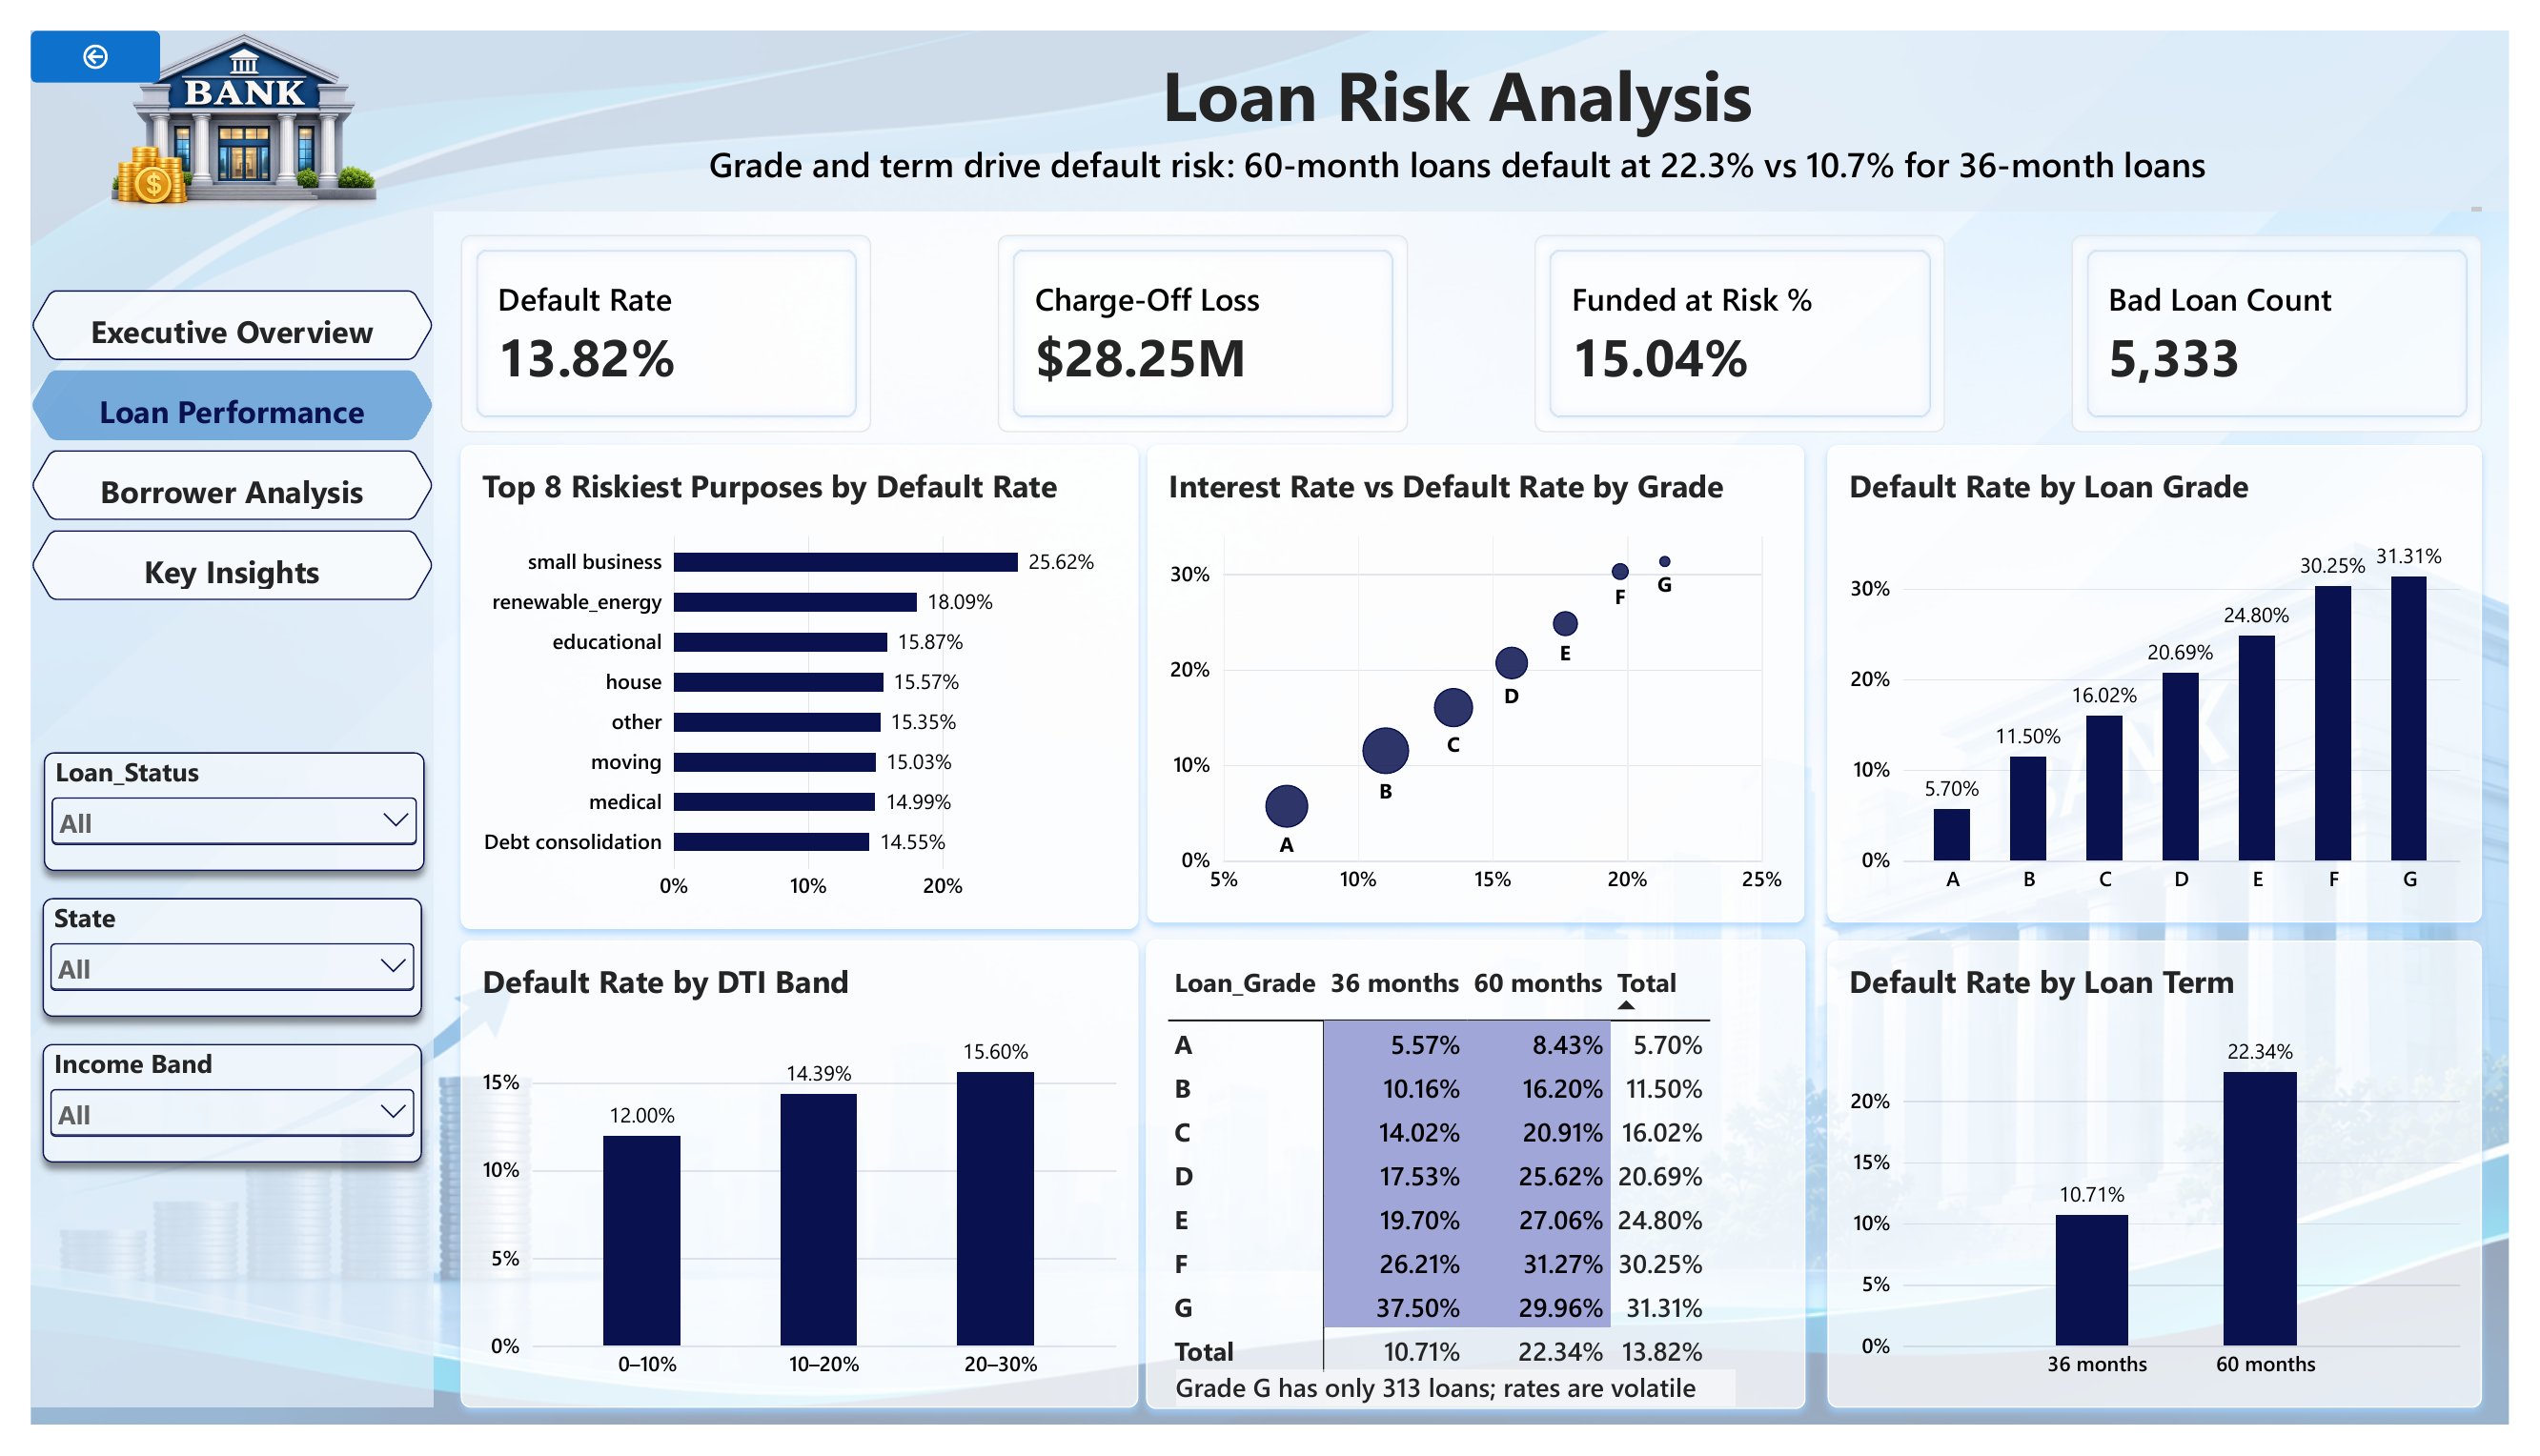

What the dashboard file says about the page in this screenshot:
{"tool":"powerbi","page":{"name":"Loan Performance","canvas":[1920,1080],"ordinal":1},"visuals":[{"type":"shape","box":[0,0,1920.4,139.5],"z":0},{"type":"shape","box":[0,139.5,312.2,927.9],"z":1000},{"type":"image","box":[26.2,0,277.3,139.5],"z":5000},{"type":"textbox","title":"Loan Risk Analysis","box":[312.2,12.2,1587.2,127.3],"z":6000},{"type":"pageNavigator","box":[0,200.6,312.2,240.7],"z":7000},{"type":"cardVisual","fields":{"Data":["Bank_Loan.Default Rate"]},"box":[333.1,157.6,317.4,153.5],"z":8000},{"type":"cardVisual","fields":{"Data":["Bank_Loan.Charge-Off Loss"]},"box":[749.2,157.6,317.4,153.5],"z":9000},{"type":"cardVisual","fields":{"Data":["Bank_Loan.Funded at Risk %"]},"box":[1165.3,157.6,317.4,153.5],"z":10000},{"type":"cardVisual","fields":{"Data":["Bank_Loan.Bad Loan Count"]},"box":[1581.3,157.6,317.4,153.5],"z":11000},{"type":"clusteredColumnChart","title":"Default Rate by Loan Grade","fields":{"Category":["Bank_Loan.Loan_Grade"],"Y":["Bank_Loan.Default Rate"]},"box":[1391.9,320.9,507.6,369.8],"z":12000},{"type":"clusteredColumnChart","title":"Default Rate by Loan Term","fields":{"Category":["Bank_Loan.Loan_Term"],"Y":["Bank_Loan.Default Rate"]},"box":[1391.9,704.7,507.6,362.8],"z":13000},{"type":"clusteredBarChart","title":"Top 8 Riskiest Purposes by Default Rate","fields":{"Category":["Bank_Loan.Purpose"],"Y":["Bank_Loan.Default Rate"]},"box":[333.1,320.9,525,375],"z":14000},{"type":"clusteredColumnChart","title":"Default Rate by DTI Band","fields":{"Category":["Bank_Loan.DTI Band"],"Y":["Bank_Loan.Default Rate"]},"box":[333.1,704.7,525,362.8],"z":15000},{"type":"scatterChart","title":"Interest Rate vs Default Rate by Grade","fields":{"Category":["Bank_Loan.Loan_Grade"],"Size":["CountNonNull(Bank_Loan.Total_Accounts)"],"X":["Bank_Loan.Average Interest Rate"],"Y":["Bank_Loan.Default Rate"]},"box":[865.1,320.9,509.3,369.8],"z":16000},{"type":"pivotTable","title":"Default Rate by Loan Grade","fields":{"Columns":["Bank_Loan.Loan_Term"],"Rows":["Bank_Loan.Loan_Grade"],"Values":["Bank_Loan.Default Rate"]},"box":[864.5,703.9,510.5,364.3],"z":17000},{"type":"textbox","title":"Grade G has only 313 loans; rates are volatile","box":[887.1,1037.4,434.3,28.8],"z":18000},{"type":"slicer","fields":{"Values":["Bank_Loan.Loan_Status"]},"box":[9.7,558.6,294.8,92.4],"z":18001},{"type":"slicer","fields":{"Values":["Bank_Loan.State"]},"box":[8.7,671.5,294.8,92.4],"z":18002},{"type":"slicer","fields":{"Values":["Bank_Loan.Income Band"]},"box":[8.7,784.9,294.8,92.4],"z":18003},{"type":"actionButton","box":[0,0,100,40],"z":18004}]}

Visuals, with their boxes in screenshot pixels (x1, y1, x2, y2), scaled from the page's 1920x1080 canvas onto the 2540x1456 screenshot:
shape: box(0, 0, 2539, 188)
shape: box(0, 188, 413, 1439)
image: box(34, 0, 401, 188)
"Loan Risk Analysis" textbox: box(413, 16, 2512, 188)
pageNavigator: box(0, 271, 413, 595)
cardVisual - Bank_Loan.Default Rate: box(440, 212, 861, 419)
cardVisual - Bank_Loan.Charge-Off Loss: box(991, 212, 1411, 419)
cardVisual - Bank_Loan.Funded at Risk %: box(1541, 212, 1961, 419)
cardVisual - Bank_Loan.Bad Loan Count: box(2092, 212, 2511, 419)
"Default Rate by Loan Grade" clusteredColumnChart: box(1841, 433, 2513, 931)
"Default Rate by Loan Term" clusteredColumnChart: box(1841, 950, 2513, 1439)
"Top 8 Riskiest Purposes by Default Rate" clusteredBarChart: box(440, 433, 1135, 939)
"Default Rate by DTI Band" clusteredColumnChart: box(440, 950, 1135, 1439)
"Interest Rate vs Default Rate by Grade" scatterChart: box(1145, 433, 1819, 931)
"Default Rate by Loan Grade" pivotTable: box(1144, 949, 1819, 1440)
"Grade G has only 313 loans; rates are volatile" textbox: box(1173, 1399, 1748, 1437)
slicer - Bank_Loan.Loan_Status: box(12, 753, 403, 878)
slicer - Bank_Loan.State: box(11, 905, 401, 1030)
slicer - Bank_Loan.Income Band: box(11, 1058, 401, 1183)
actionButton: box(0, 0, 132, 54)
